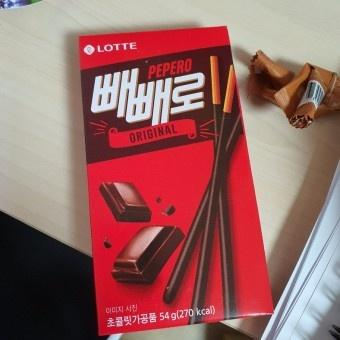snack: (77, 25, 275, 336)
